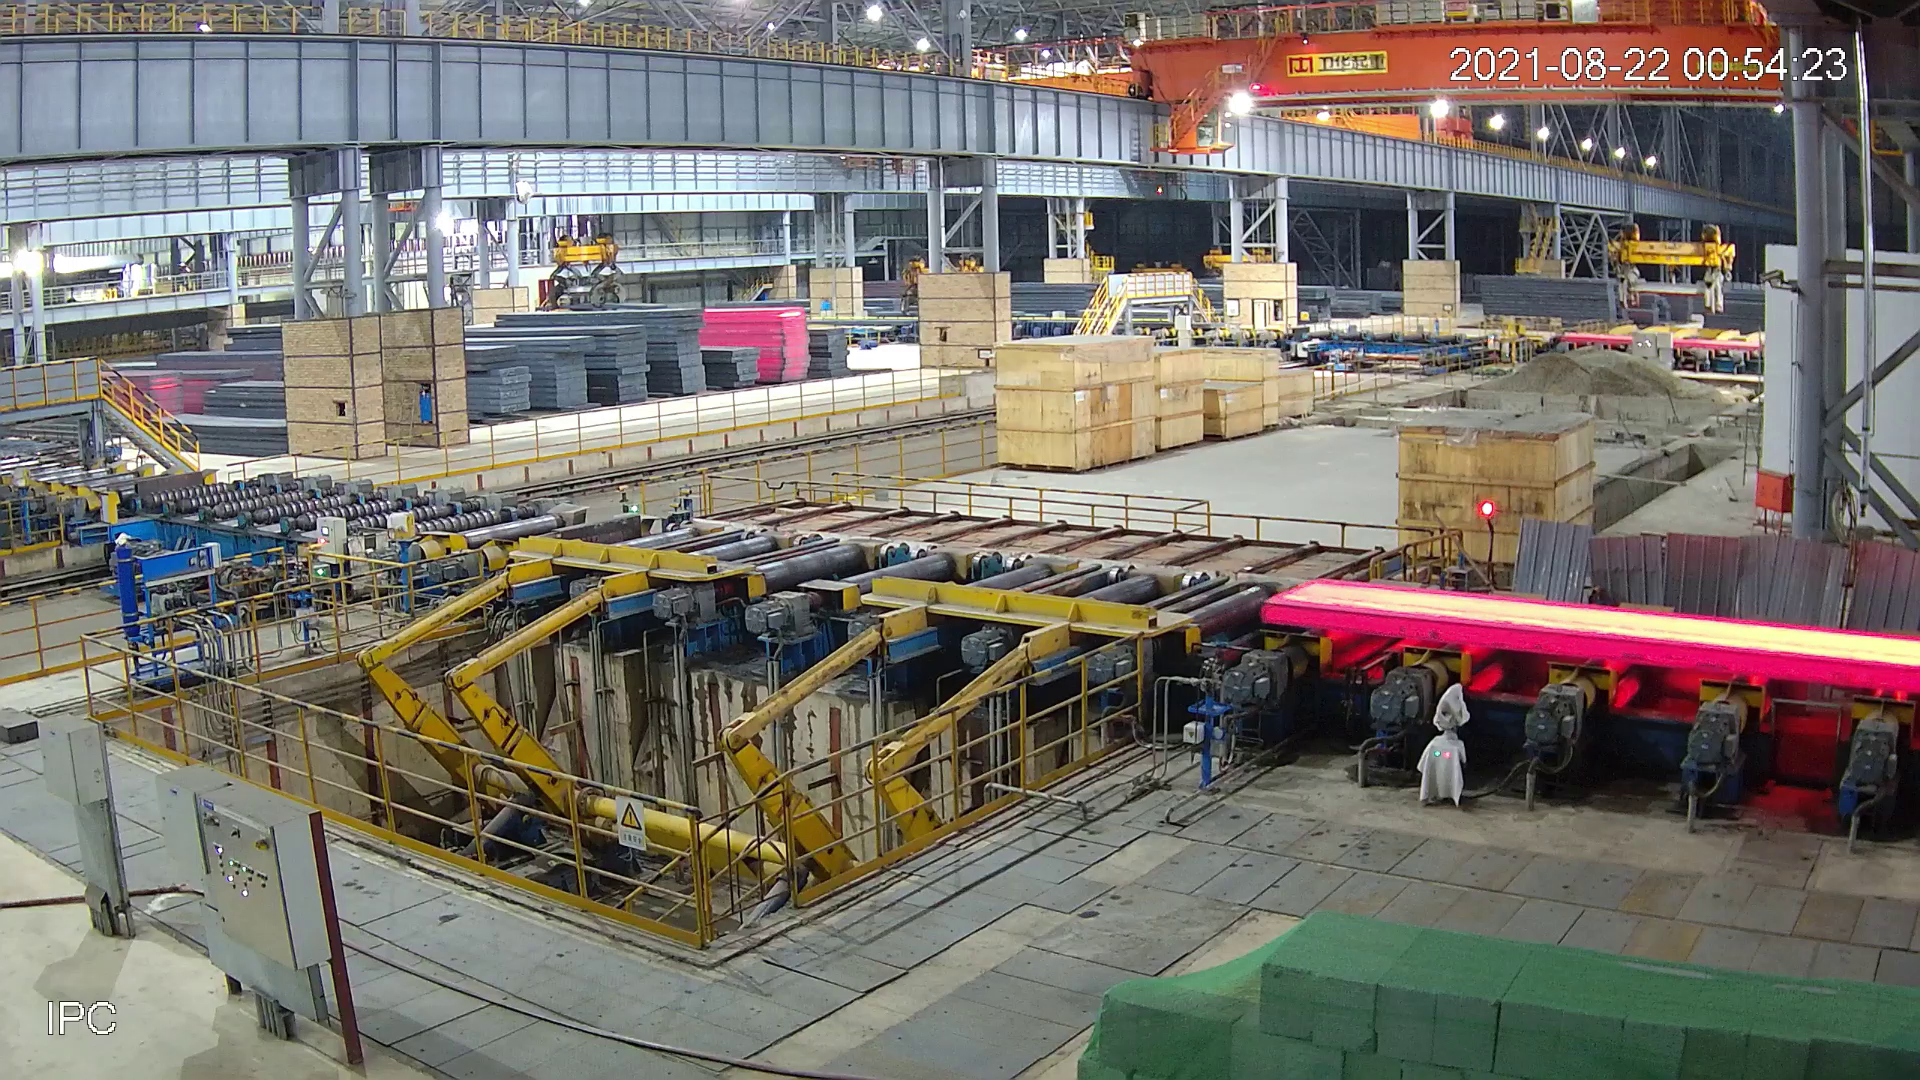slab: (1261, 570, 1920, 709)
